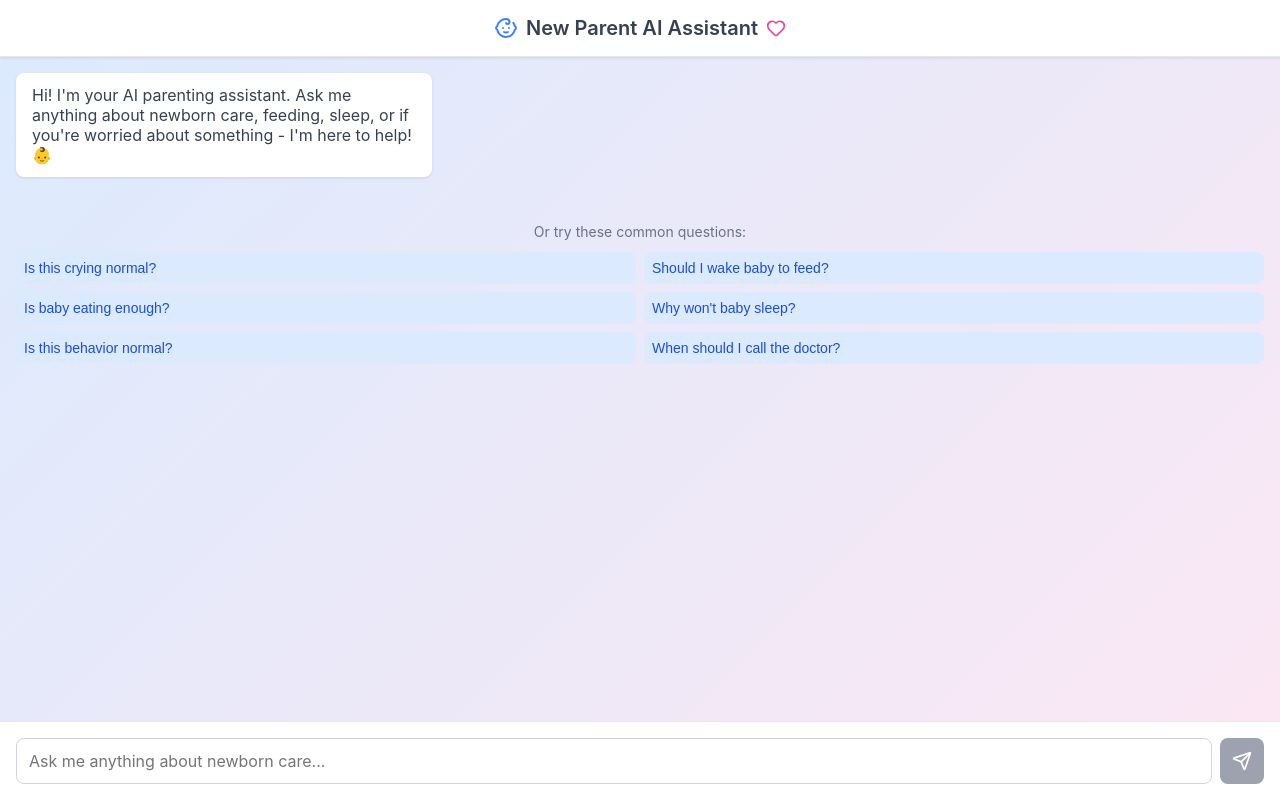
App Component › handles quick question clicks
Click the button "Is this crying normal?" at (90, 268), box [16,252,636,284]
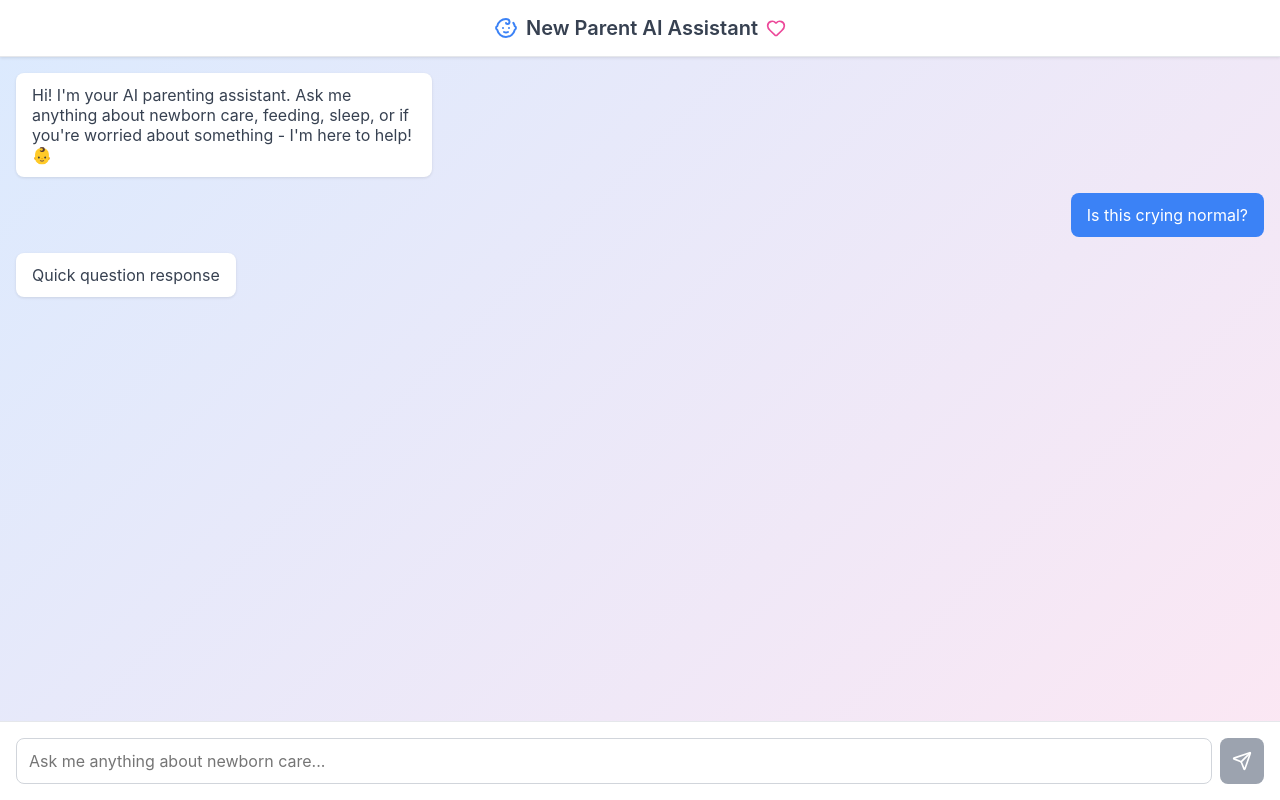
Expected: the text "Is this crying normal?" is shown, [1071,193,1264,237]
Now the text "Quick question response" is shown, box [16,253,236,297]
